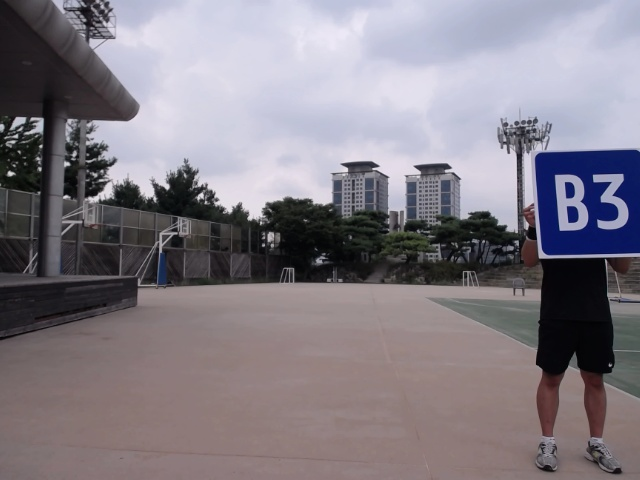delivery_b3: (531, 150, 639, 259)
